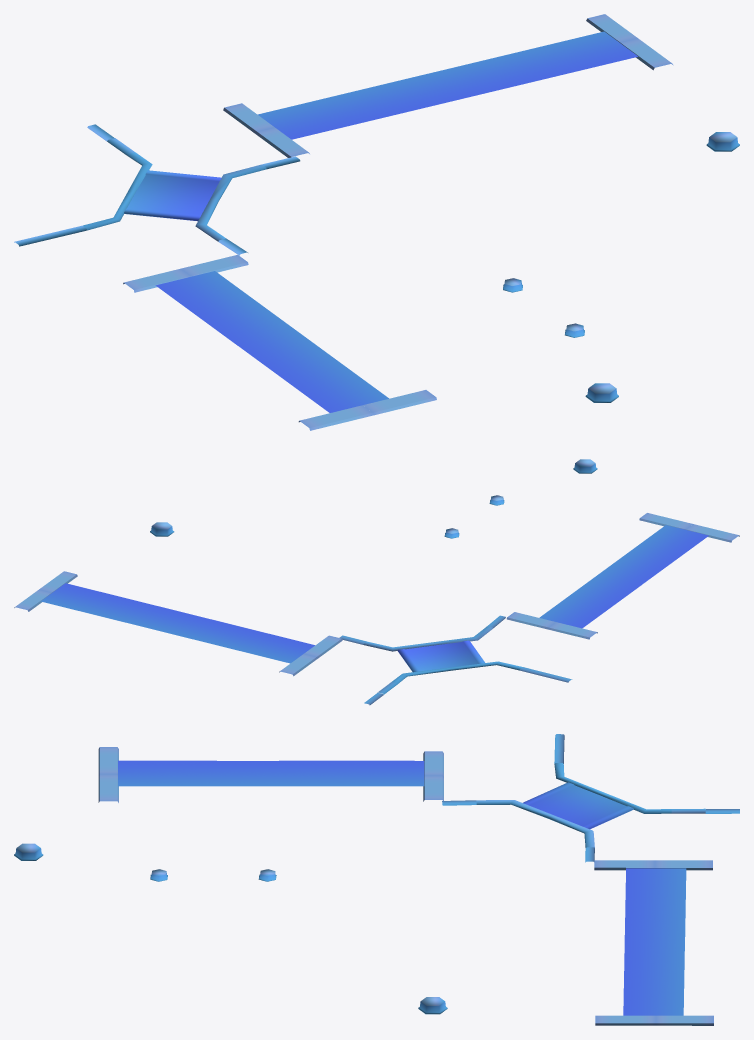
File: Area_08_3.FBX
The picture shows the model from 3 angles, top to bottom: view 1: azimuth 30°, elevation 25°; view 2: azimuth 150°, elevation 25°; view 3: azimuth 270°, elevation 25°; orthographic projection. The views are drawn at different scales.
Parts seen in each view (by area): view 1: Area_08_3; view 2: Area_08_3; view 3: Area_08_3.
Boxes of the visible parts, left/top/right/bottom form: Area_08_3: left=14, top=14, right=739, bottom=430; Area_08_3: left=14, top=459, right=739, bottom=705; Area_08_3: left=14, top=734, right=739, bottom=1025.
Size of the model in its own units: 8863 by 148 by 9386.
